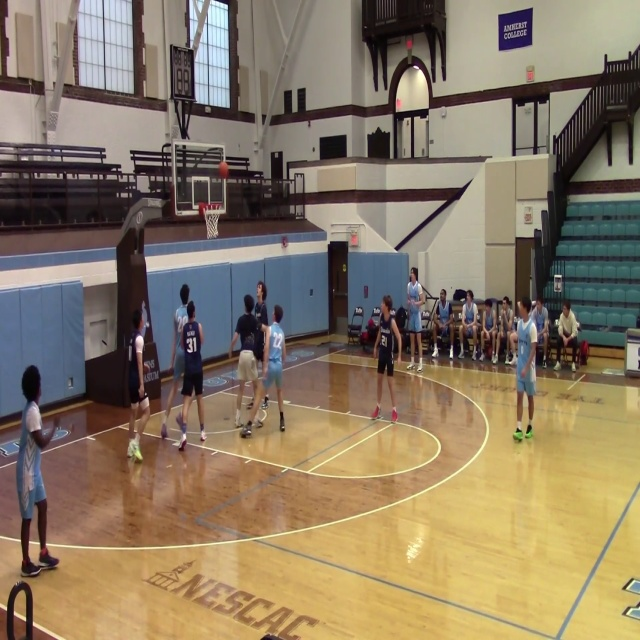Basketball: (218, 161, 229, 179), (509, 332, 518, 342)
